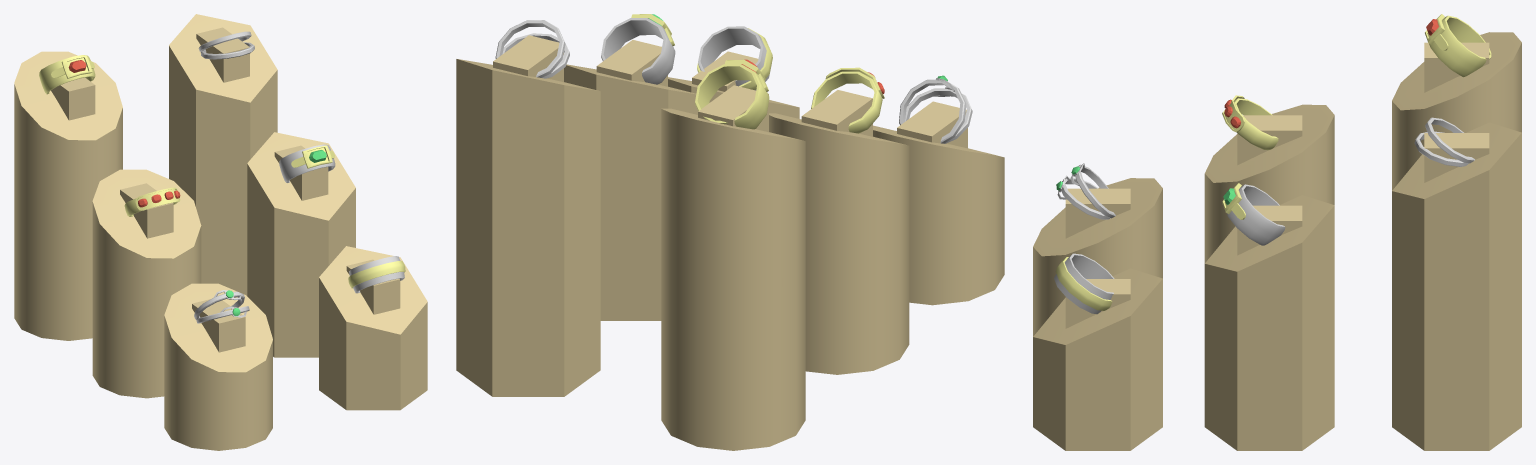
Rendered from Rings_2.fbx.
The picture shows the model from 3 angles, left to right: view 1: azimuth 30°, elevation 25°; view 2: azimuth 150°, elevation 25°; view 3: azimuth 270°, elevation 25°; orthographic projection. The views are drawn at different scales.
Visible parts, largest first — view 1: SM_Ring_Stand_4, SM_Ring_Stand_6, SM_Ring_Stand_2, SM_Ring_Stand_5, SM_Ring_Stand_3, SM_Ring_Stand_7, SM_Ring_14, SM_Ring_4, SM_Ring_13, SM_Ring_17, SM_Ring_6, SM_Ring_12; view 2: SM_Ring_Stand_4, SM_Ring_Stand_6, SM_Ring_Stand_2, SM_Ring_Stand_5, SM_Ring_Stand_3, SM_Ring_4, SM_Ring_13, SM_Ring_14, SM_Ring_6, SM_Ring_17, SM_Ring_12, SM_Ring_Stand_7; view 3: SM_Ring_Stand_6, SM_Ring_Stand_5, SM_Ring_Stand_7, SM_Ring_Stand_2, SM_Ring_Stand_4, SM_Ring_Stand_3, SM_Ring_4, SM_Ring_14, SM_Ring_13, SM_Ring_6, SM_Ring_17, SM_Ring_12.
Boxes of the visible parts, x1,y1,x2,y2 form: SM_Ring_Stand_4: (14, 51, 122, 340); SM_Ring_Stand_6: (169, 14, 277, 295); SM_Ring_Stand_2: (92, 169, 201, 398); SM_Ring_Stand_5: (247, 132, 355, 357); SM_Ring_Stand_3: (164, 283, 272, 450); SM_Ring_Stand_7: (319, 246, 427, 410); SM_Ring_14: (348, 256, 405, 293); SM_Ring_4: (39, 55, 95, 94); SM_Ring_13: (279, 144, 335, 182); SM_Ring_17: (194, 290, 249, 323); SM_Ring_6: (124, 187, 180, 216); SM_Ring_12: (198, 31, 254, 59); SM_Ring_Stand_4: (661, 85, 805, 450); SM_Ring_Stand_6: (456, 35, 600, 396); SM_Ring_Stand_2: (769, 90, 909, 374); SM_Ring_Stand_5: (564, 40, 697, 320); SM_Ring_Stand_3: (873, 101, 1004, 305); SM_Ring_4: (695, 59, 769, 129); SM_Ring_13: (601, 14, 675, 84); SM_Ring_14: (697, 26, 772, 90); SM_Ring_6: (811, 67, 884, 133); SM_Ring_17: (899, 75, 972, 143); SM_Ring_12: (495, 20, 569, 78); SM_Ring_Stand_7: (668, 51, 799, 118); SM_Ring_Stand_6: (1392, 122, 1521, 450); SM_Ring_Stand_5: (1204, 195, 1334, 450); SM_Ring_Stand_7: (1033, 268, 1162, 450); SM_Ring_Stand_2: (1204, 104, 1334, 263); SM_Ring_Stand_4: (1392, 32, 1521, 190); SM_Ring_Stand_3: (1033, 178, 1162, 336); SM_Ring_4: (1425, 14, 1491, 77); SM_Ring_14: (1054, 253, 1114, 314); SM_Ring_13: (1222, 183, 1285, 245); SM_Ring_6: (1222, 95, 1278, 150); SM_Ring_17: (1056, 163, 1115, 219); SM_Ring_12: (1414, 117, 1474, 166).
Bounding box in the file's own units: 10.3 × 10.81 × 15.04.
